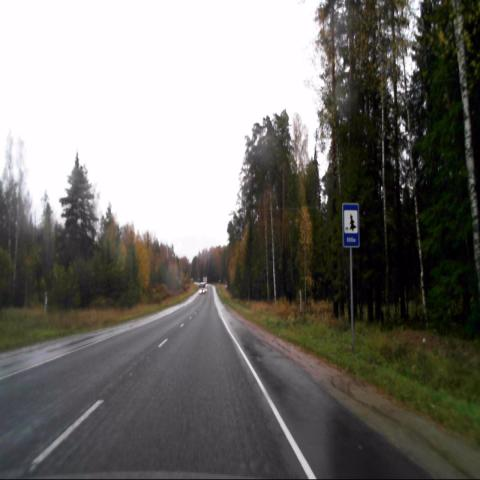7_11: (342, 202, 360, 251)
